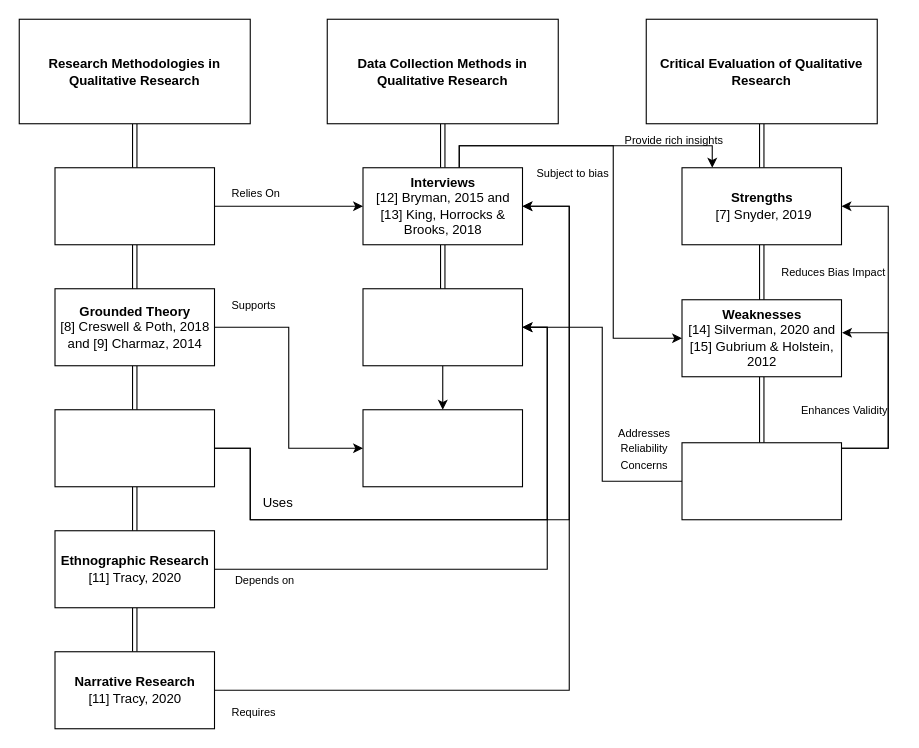
Some shapes in this 919 by 748 pixel diagram are drawn without their labels. Here are the shapes that lost their labels. From the top down, the centre of each, then its label:
At point (134, 206): "Phenomenology [7] Snyder, 2019".
At point (442, 327): "Observations [11] Tracy, 2020".
At point (134, 448): "Case Study Research [10] Yin, 2017".
At point (442, 448): "Document Analysis [8] Creswell & Poth, 2018".
At point (761, 481): "Triangulation for Credibility [14] Silverman, 2020".
